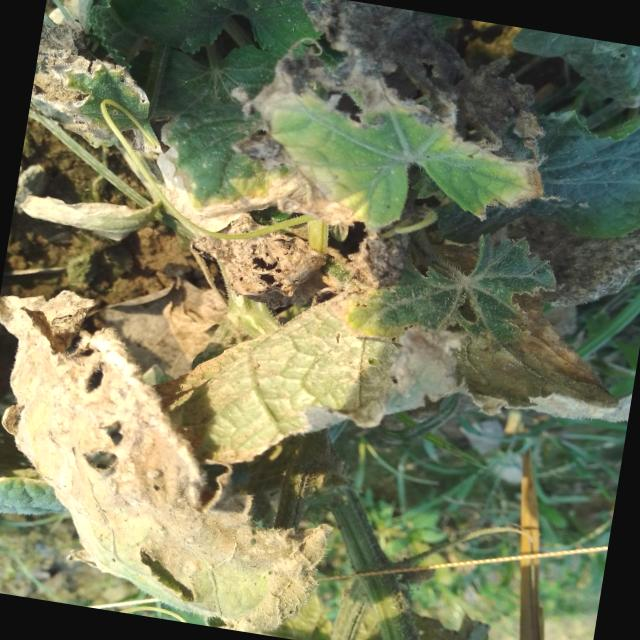cucumber_anthracnose: (0, 306, 346, 616), (226, 39, 554, 246), (322, 234, 631, 412), (175, 210, 328, 322), (498, 25, 640, 89)
